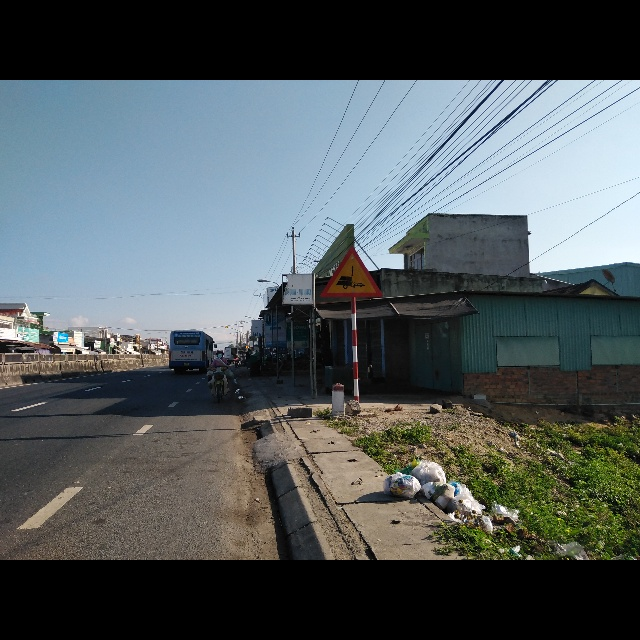Hết khu đông dân cư: (318, 242, 382, 299)
